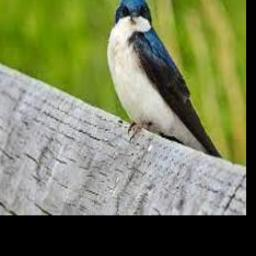Swallow: (107, 0, 222, 158)
